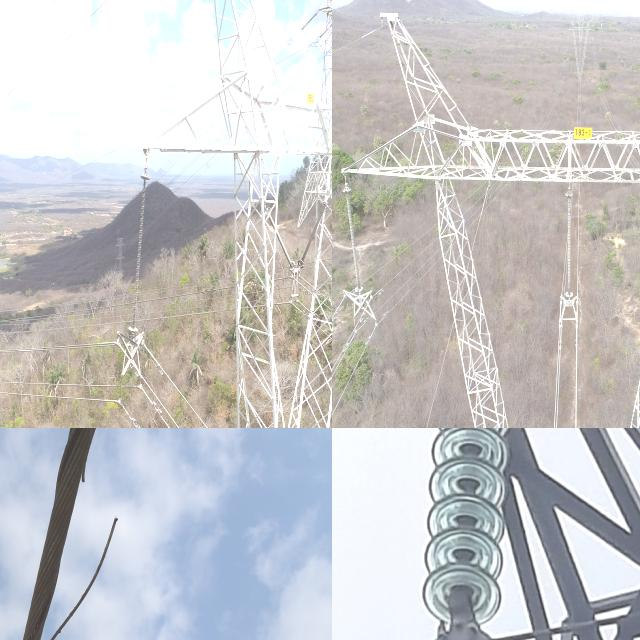杆塔: (352, 11, 640, 428), (133, 0, 332, 428), (411, 428, 640, 640)
正常电缆: (0, 0, 122, 116), (332, 325, 378, 422), (376, 248, 440, 311), (366, 224, 435, 282), (380, 258, 441, 322), (156, 360, 211, 428), (374, 238, 437, 296), (425, 320, 455, 428), (0, 315, 124, 338), (0, 386, 116, 404), (332, 21, 383, 59), (0, 374, 115, 390), (0, 339, 111, 355), (149, 384, 183, 428), (574, 189, 580, 428), (144, 388, 174, 428), (332, 333, 356, 381), (553, 322, 561, 428), (555, 350, 561, 428)
正常绝缘子: (396, 428, 530, 640), (127, 174, 151, 336), (342, 183, 364, 293), (297, 201, 328, 269), (265, 208, 296, 273), (565, 189, 574, 299)
电缆破损: (2, 428, 152, 640)
